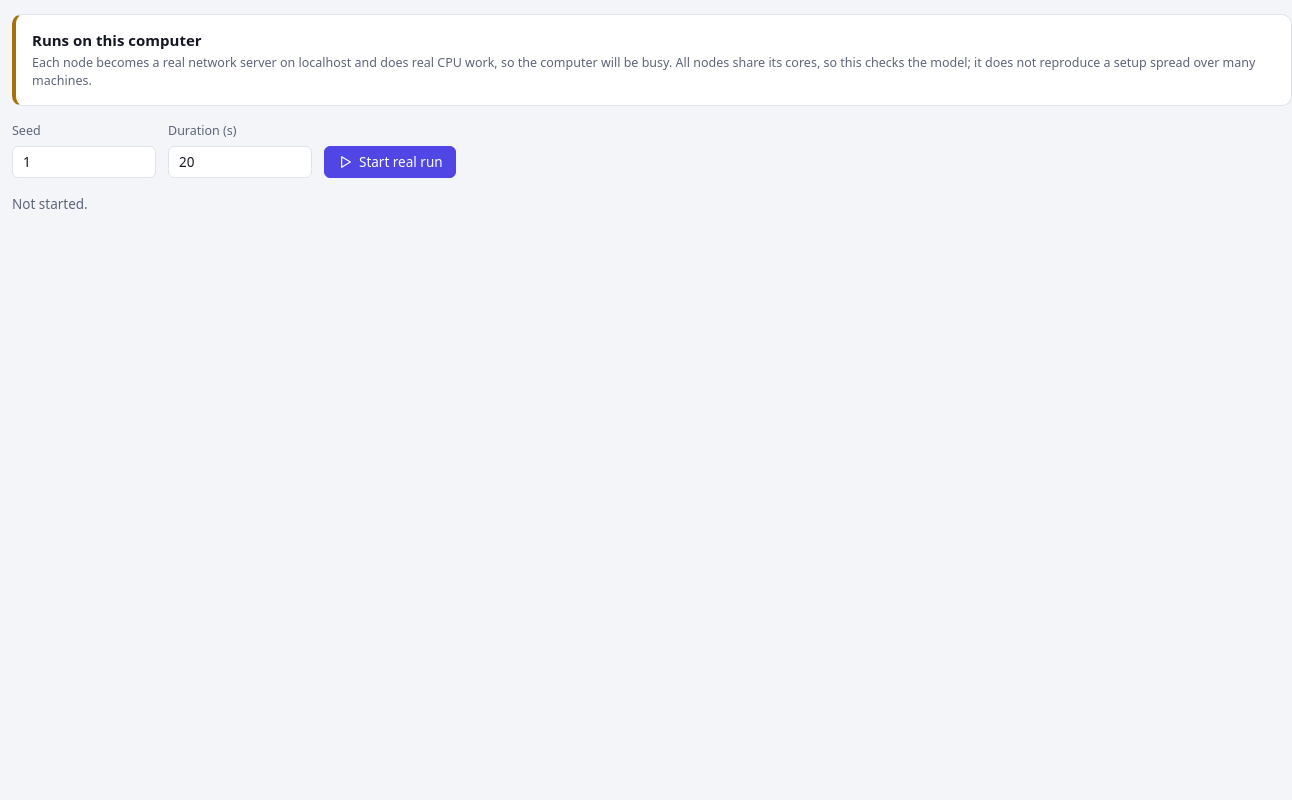
Scenario: RealPanel › shows simulated and measured results side by side
Click the button "Start real run" at (390, 162), box [324, 146, 456, 178]
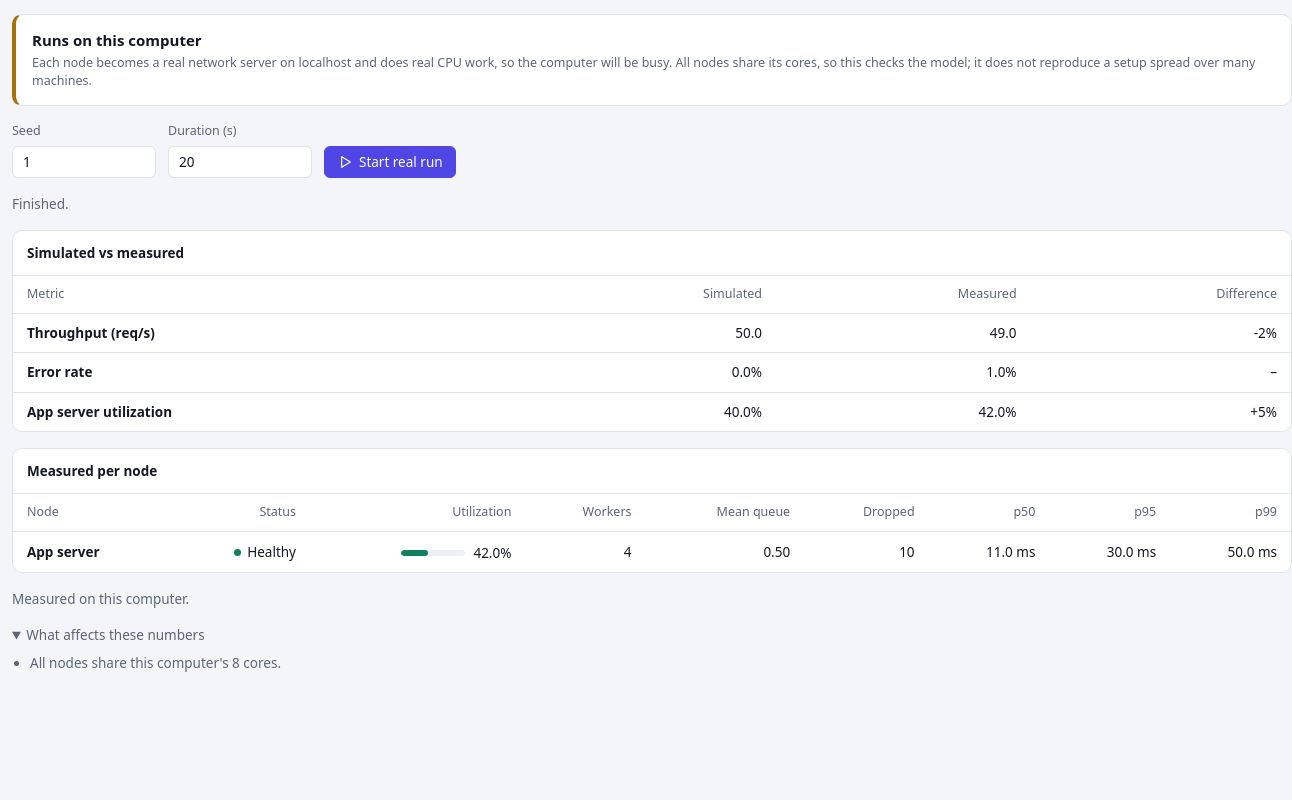
Result: the text "Simulated vs measured" is shown at [27, 244, 184, 262]
Result: the column heading "Throughput (req/s)" is shown at [13, 314, 521, 353]
Result: the text "-2%" is shown at [1031, 314, 1291, 353]
